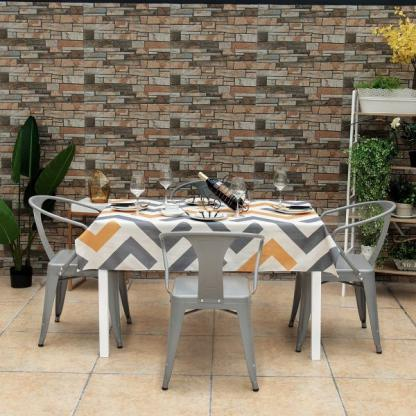chair: (18, 183, 132, 359), (286, 190, 400, 360), (159, 222, 261, 400), (169, 167, 248, 324)
table: (75, 189, 338, 364)
